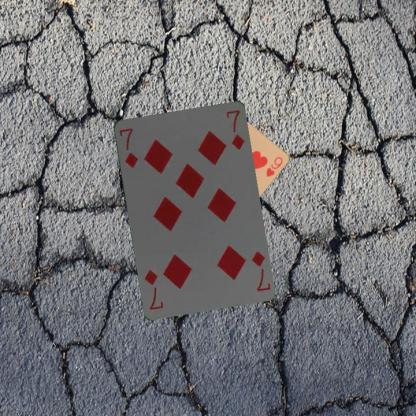7d: (248, 248, 271, 292), (117, 126, 139, 170)
